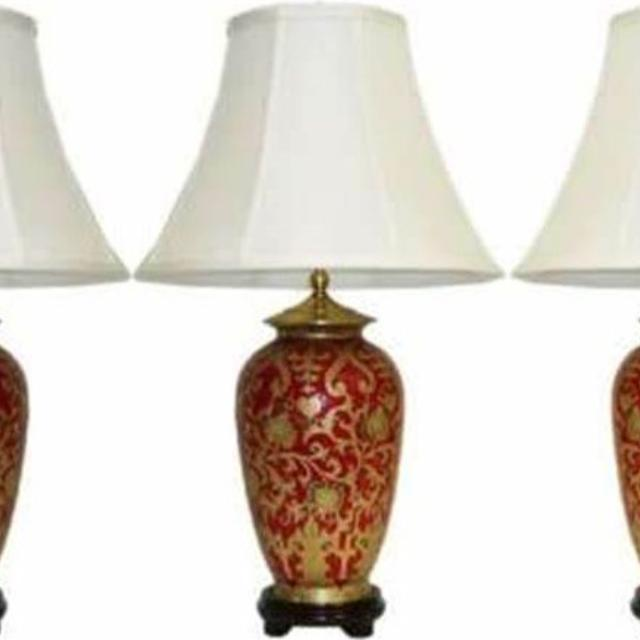lamp: (135, 4, 506, 640)
